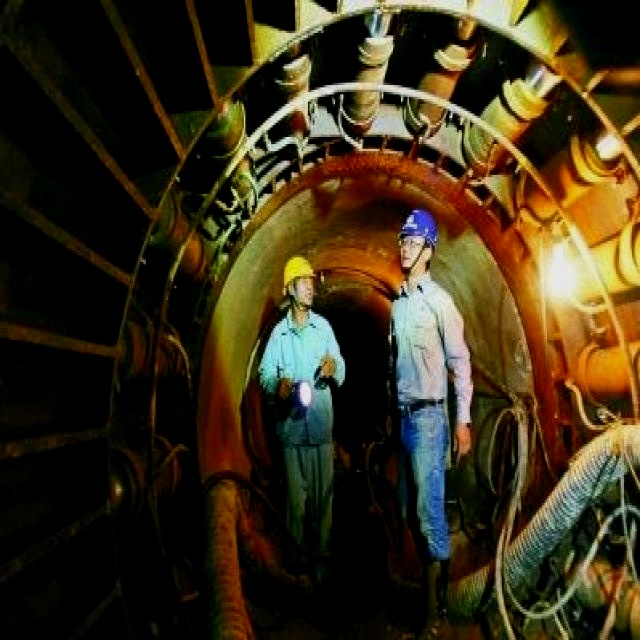Sin_Casco_Mascarrilla: (399, 207, 436, 277), (283, 253, 316, 315)
